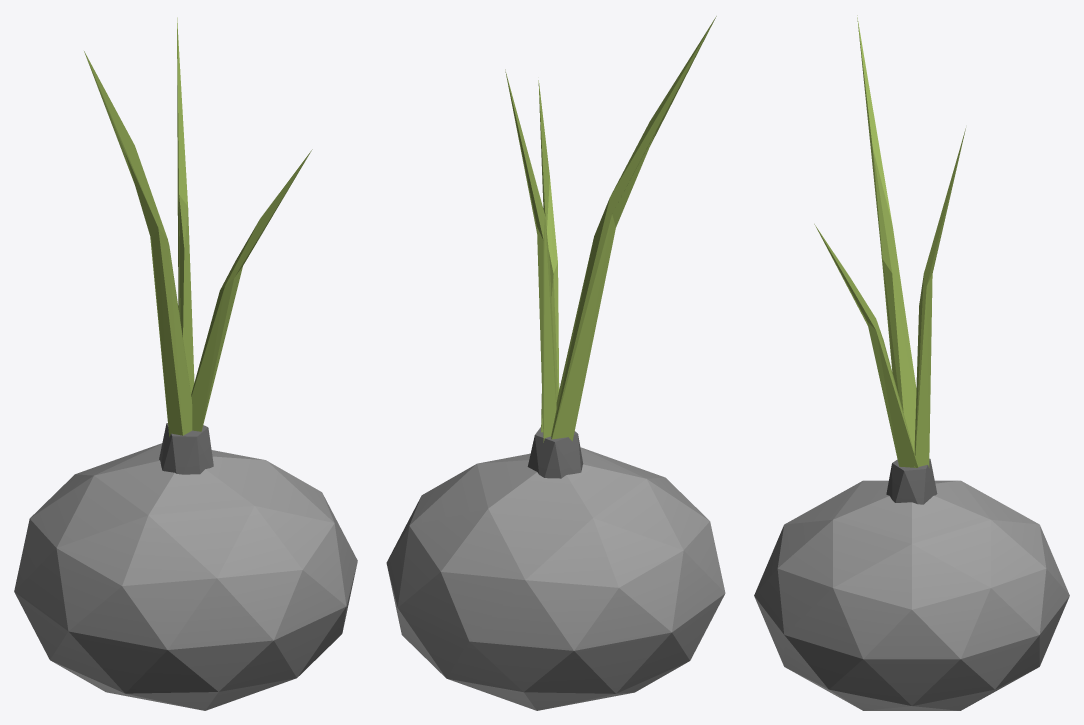
Rendered from Garlic_01.fbx.
The picture shows the model from 3 angles, left to right: view 1: azimuth 30°, elevation 25°; view 2: azimuth 150°, elevation 25°; view 3: azimuth 270°, elevation 25°; orthographic projection. The views are drawn at different scales.
Visible parts, largest first — view 1: Garlic_01; view 2: Garlic_01; view 3: Garlic_01.
Boxes of the visible parts, x1=… form: Garlic_01: x1=14, y1=17, x2=357, y2=710; Garlic_01: x1=386, y1=16, x2=725, y2=710; Garlic_01: x1=754, y1=15, x2=1069, y2=710.
Size of the model in its own units: 7.98 by 18.72 by 8.39.
